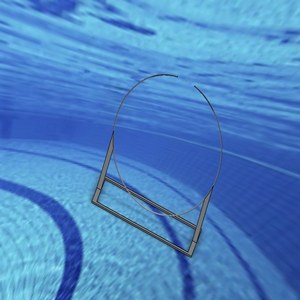circle: (91, 71, 225, 256)
